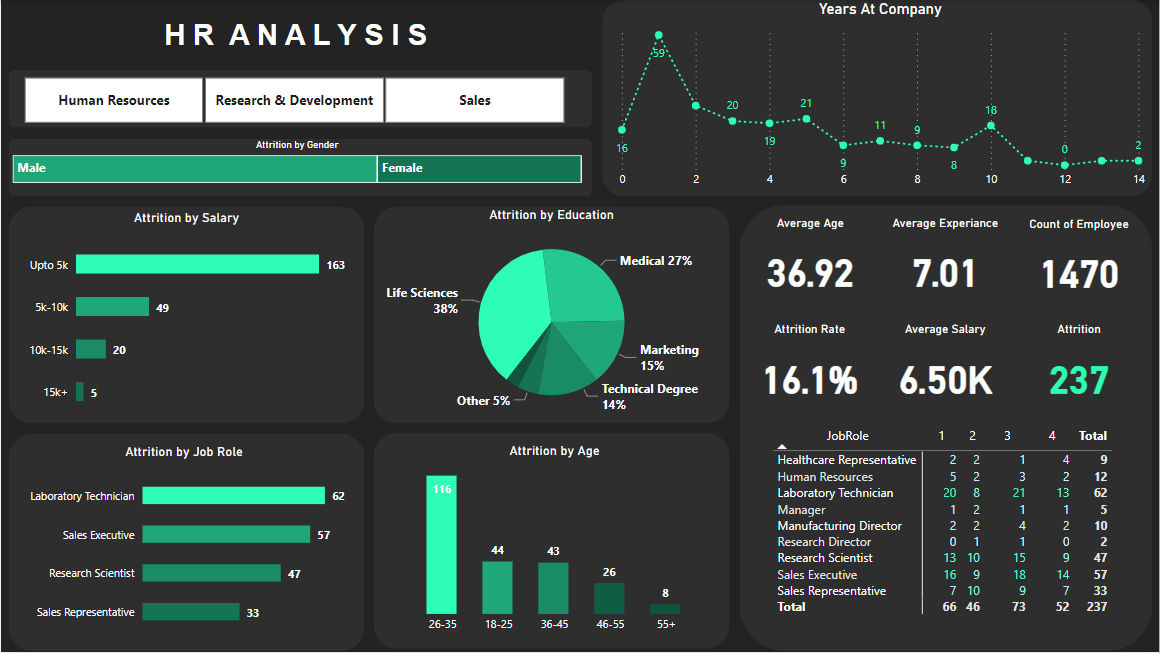

Layout of this report page (visuals, bound fields, positions):
{"tool":"powerbi","page":{"name":"Page 1","canvas":[1280,720],"ordinal":0},"visuals":[{"type":"shape","box":[8.3,77.4,645.1,63.5],"z":0},{"type":"shape","box":[8.3,153.3,645.1,63.5],"z":1000},{"type":"shape","box":[664.5,0,607.8,216.9],"z":2000},{"type":"shape","box":[816.4,226.6,455.9,493.2],"z":3000},{"type":"shape","box":[411.7,478,393.7,239],"z":4000},{"type":"shape","box":[411.7,227.9,393.7,240.4],"z":5000},{"type":"shape","box":[8.3,227.9,393.7,240.4],"z":6000},{"type":"shape","box":[8.3,479.3,393.7,240.4],"z":7000},{"type":"card","title":"Count of Employee","fields":{"Values":["CountNonNull(HR_Analytics.EmpID)"]},"box":[1107.8,240.3,167.1,100.8],"z":8000},{"type":"card","title":"Attrition","fields":{"Values":["Sum(HR_Analytics.Attritioncount)"]},"box":[1107.8,356.3,167.1,102.2],"z":9000},{"type":"card","title":"Attrition Rate","fields":{"Values":["HR_Analytics.AttritionRate"]},"box":[811.2,356.3,165.8,102.2],"z":10000},{"type":"card","title":"Average Age","fields":{"Values":["Avg(HR_Analytics.Age)"]},"box":[810.5,238.9,167.1,100.8],"z":11000},{"type":"card","title":"Average Salary","fields":{"Values":["Avg(HR_Analytics.MonthlyIncome)"]},"box":[960.7,356.3,167.1,102.2],"z":12000},{"type":"card","title":"Average Experiance","fields":{"Values":["Avg(HR_Analytics.YearsAtCompany)"]},"box":[960.7,238.9,167.1,100.8],"z":13000},{"type":"columnChart","title":"Attrition by Age","fields":{"Category":["HR_Analytics.AgeGroup"],"Y":["Sum(HR_Analytics.Attritioncount)"]},"box":[440.7,489,342.6,219.6],"z":15000},{"type":"pivotTable","fields":{"Rows":["HR_Analytics.JobRole"],"Columns":["HR_Analytics.JobSatisfaction"],"Values":["Sum(HR_Analytics.Attritioncount)"]},"box":[848.2,466.9,411.7,230.7],"z":16000},{"type":"clusteredBarChart","title":"Attrition by Salary","fields":{"Category":["HR_Analytics.SalarySlab"],"Y":["Sum(HR_Analytics.Attritioncount)"]},"box":[22.1,232.1,366.1,237.6],"z":17000},{"type":"clusteredBarChart","title":"Attrition by Job Role","fields":{"Category":["HR_Analytics.JobRole"],"Y":["Sum(HR_Analytics.Attritioncount)"]},"box":[16.6,490.4,371.6,219.6],"z":18000},{"type":"lineChart","title":"Years At Company","fields":{"Category":["HR_Analytics.YearsAtCompany"],"Y":["Sum(HR_Analytics.Attritioncount)"]},"box":[671.4,0,600.9,216.9],"z":19000},{"type":"treemap","title":"Attrition by Gender","fields":{"Group":["HR_Analytics.Gender"],"Values":["Sum(HR_Analytics.Attritioncount)"]},"box":[8.3,153.3,638.2,53.9],"z":20000},{"type":"textbox","box":[8.3,9.7,645.1,56.6],"z":21000},{"type":"slicer","fields":{"Values":["HR_Analytics.Department"]},"box":[0,78.7,646.5,63.5],"z":22000},{"type":"pieChart","title":"Attrition by Education","fields":{"Category":["HR_Analytics.EducationField"],"Y":["Sum(HR_Analytics.Attritioncount)"]},"box":[411.7,227.9,393.7,239],"z":23000}]}

Visuals, with their boxes in screenshot pixels (x1, y1, x2, y2), scaled from the page's 1280x720 canvas onto the 1160x653 screenshot:
shape: locate(8, 70, 592, 128)
shape: locate(8, 139, 592, 197)
shape: locate(602, 0, 1153, 197)
shape: locate(740, 206, 1153, 652)
shape: locate(373, 434, 730, 650)
shape: locate(373, 207, 730, 425)
shape: locate(8, 207, 364, 425)
shape: locate(8, 435, 364, 652)
"Count of Employee" card: locate(1004, 218, 1155, 309)
"Attrition" card: locate(1004, 323, 1155, 416)
"Attrition Rate" card: locate(735, 323, 885, 416)
"Average Age" card: locate(735, 217, 886, 308)
"Average Salary" card: locate(871, 323, 1022, 416)
"Average Experiance" card: locate(871, 217, 1022, 308)
"Attrition by Age" columnChart: locate(399, 443, 710, 643)
pivotTable - HR_Analytics.JobRole x HR_Analytics.JobSatisfaction: locate(769, 423, 1142, 633)
"Attrition by Salary" clusteredBarChart: locate(20, 211, 352, 426)
"Attrition by Job Role" clusteredBarChart: locate(15, 445, 352, 644)
"Years At Company" lineChart: locate(608, 0, 1153, 197)
"Attrition by Gender" treemap: locate(8, 139, 586, 188)
textbox: locate(8, 9, 592, 60)
slicer - HR_Analytics.Department: locate(0, 71, 586, 129)
"Attrition by Education" pieChart: locate(373, 207, 730, 423)
